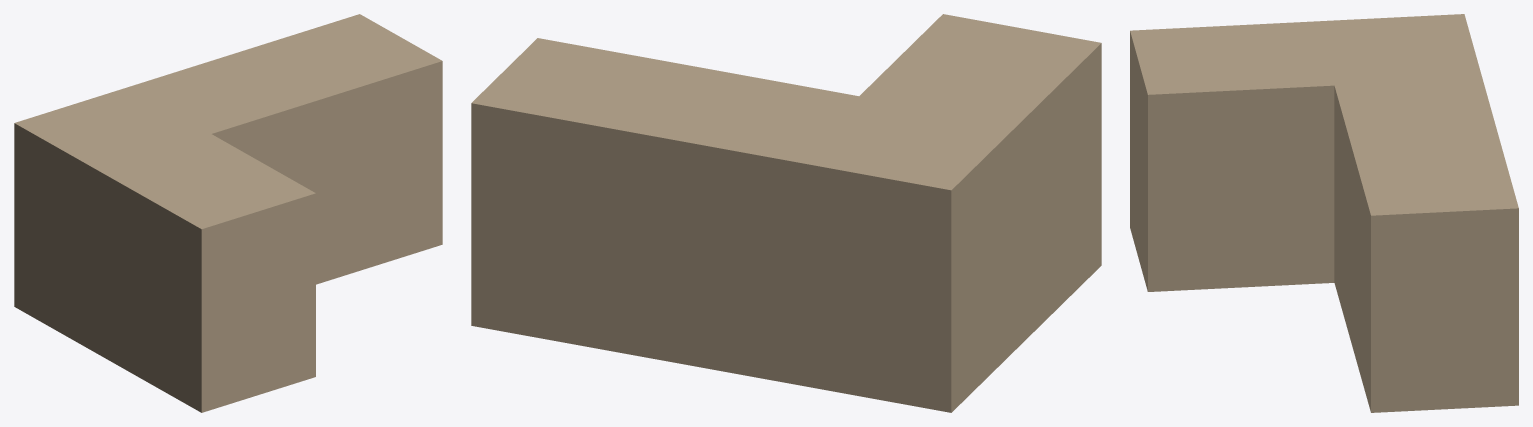
File: bld_109034743.dae
The picture shows the model from 3 angles, left to right: view 1: azimuth 30°, elevation 25°; view 2: azimuth 150°, elevation 25°; view 3: azimuth 270°, elevation 25°; orthographic projection. The views are drawn at different scales.
Parts seen in each view (by area): view 1: bld_109034743; view 2: bld_109034743; view 3: bld_109034743.
Boxes of the visible parts, left/top/right/bottom form: bld_109034743: left=14, top=14, right=442, bottom=412; bld_109034743: left=471, top=14, right=1101, bottom=412; bld_109034743: left=1130, top=14, right=1518, bottom=412.
Bounding box in the file's own units: 17.55 × 14.29 × 8.
